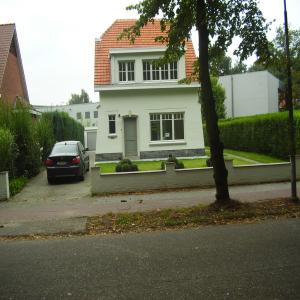Vehicle-registration-plate: (59, 162, 67, 166)
